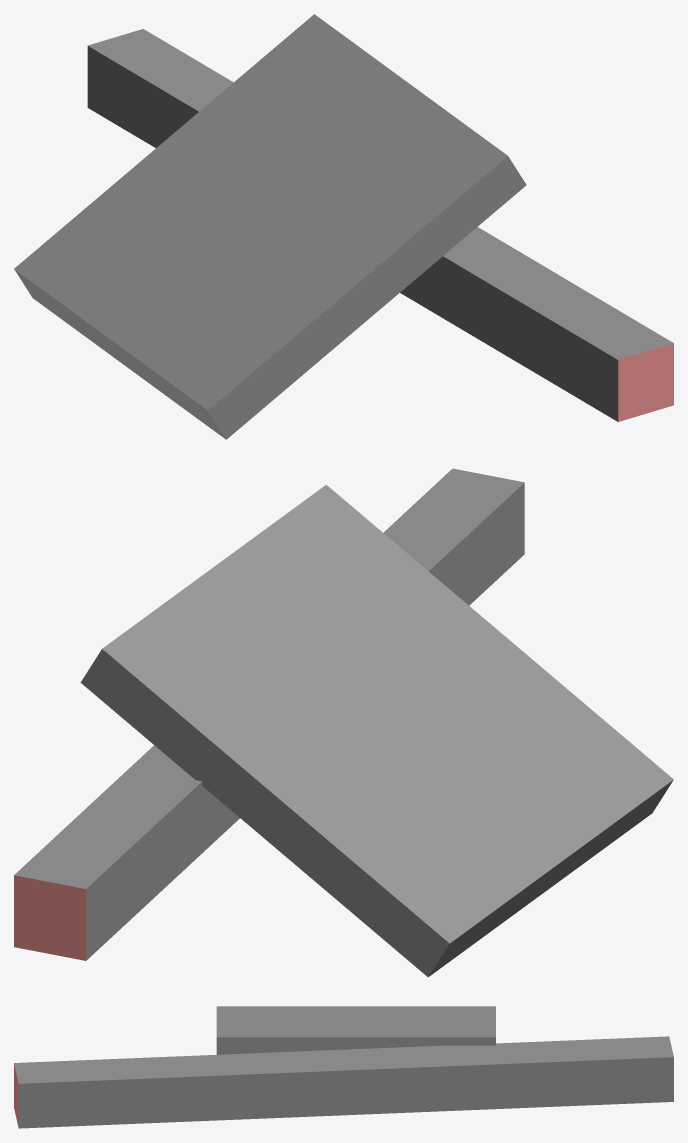
Rendered from V_Obj_S__O_Wood-Log-S.gltf.
3 views of the same model, one above another, from view 1: azimuth 30°, elevation 25°; view 2: azimuth 150°, elevation 25°; view 3: azimuth 270°, elevation 25° (orthographic). The views are drawn at different scales.
Parts seen in each view (by area): view 1: O_Wood-Log-S; view 2: O_Wood-Log-S; view 3: O_Wood-Log-S.
Boxes of the visible parts, x1,y1,x2,y2 form: O_Wood-Log-S: (14, 14, 673, 439); O_Wood-Log-S: (14, 468, 673, 977); O_Wood-Log-S: (14, 1006, 673, 1128).
Size of the model in its own units: 0.3323 by 0.2079 by 0.8021.
